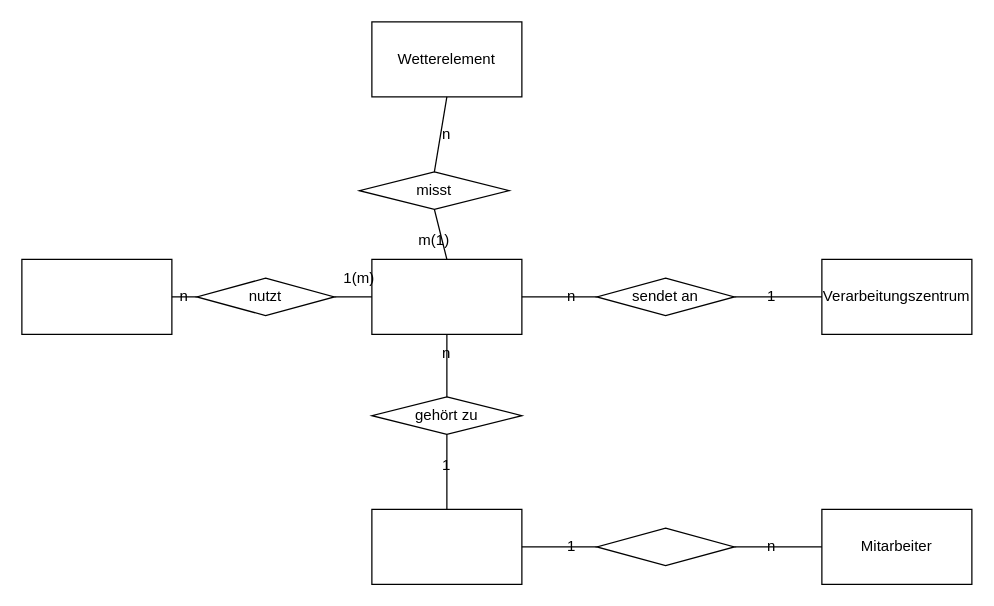
Image size: 994x606. Some labels were removed from this diagram. The shapes that lost their labels are listed below. From the top down, each one's centre as x and y in pixels, then its label:
the point at 96,296: Messgerät
the point at 446,296: Messstation
the point at 446,546: Region
the point at 665,546: betreut
